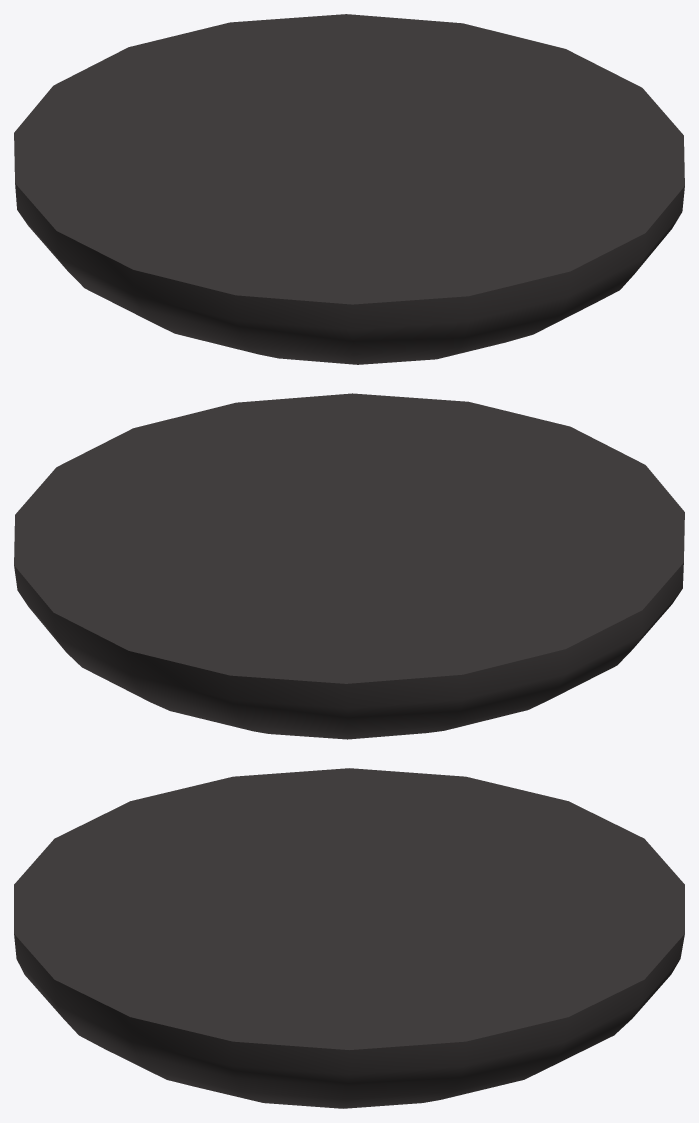
Rendered from heat_shield.FBX.
3 views of the same model, one above another, from view 1: azimuth 30°, elevation 25°; view 2: azimuth 150°, elevation 25°; view 3: azimuth 270°, elevation 25° (orthographic).
Parts seen in each view (by area): view 1: heatshield; view 2: heatshield; view 3: heatshield.
Part boxes in pixels (box(x1,y1,x2,y2)): heatshield: box(14, 14, 684, 364); heatshield: box(14, 393, 684, 739); heatshield: box(14, 768, 684, 1108).
Bounding box in the file's own units: 52.79 × 12.02 × 53.08.
